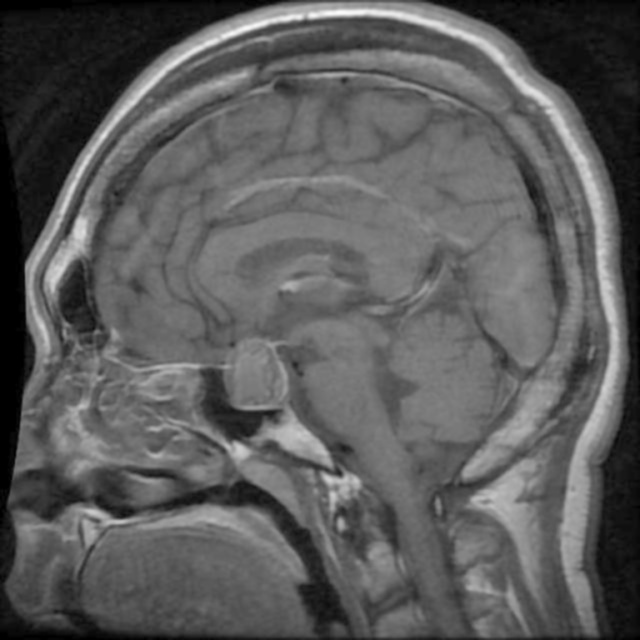no tumor: (223, 332, 295, 417)
